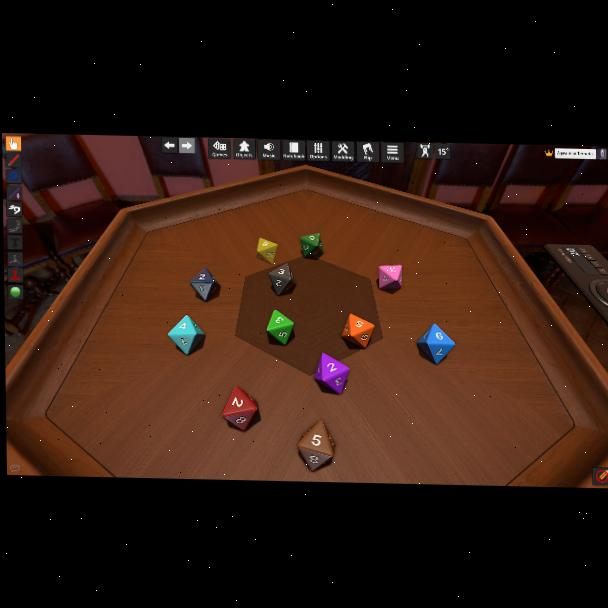d8: (297, 419, 334, 471), (221, 387, 257, 432), (168, 314, 206, 356), (417, 322, 455, 363), (313, 352, 346, 393), (341, 313, 373, 348), (189, 268, 219, 303), (267, 310, 295, 346), (268, 264, 296, 296), (378, 264, 402, 291), (300, 234, 323, 260), (255, 238, 278, 264)
